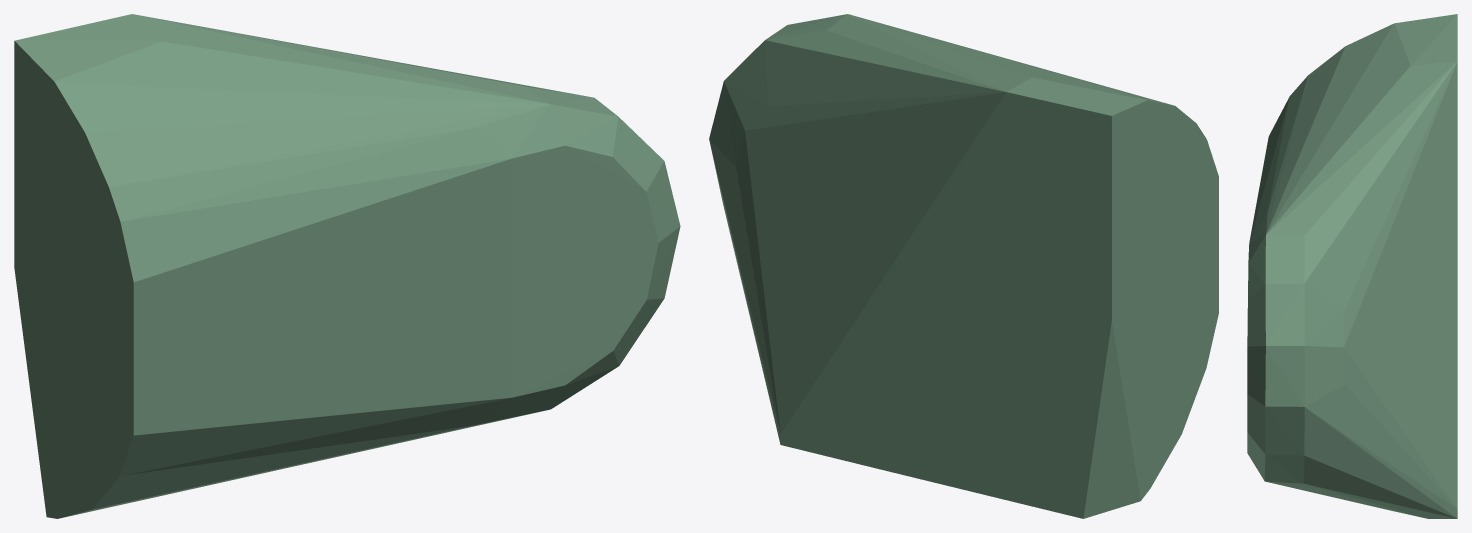
3 renders of one model, left to right at view 1: azimuth 30°, elevation 25°; view 2: azimuth 150°, elevation 25°; view 3: azimuth 270°, elevation 25°, orthographic. The views are drawn at different scales.
Size of the model in its own units: 0.0202 by 0.0161 by 0.0085.
